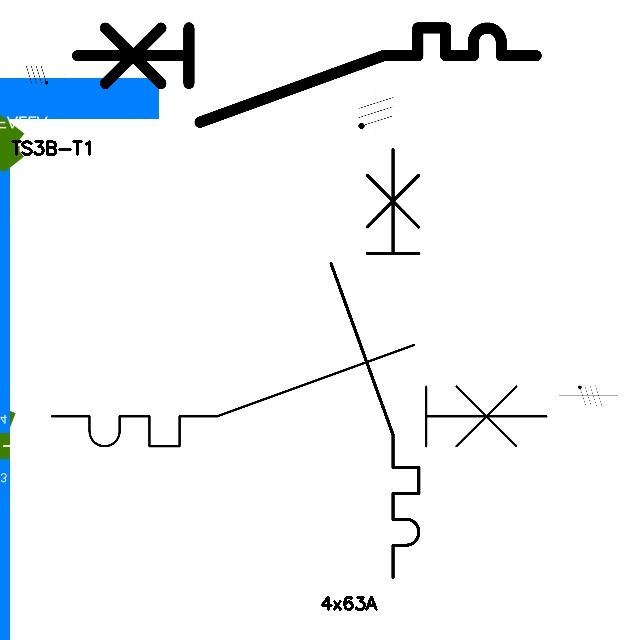interruptor_termomagnetico: (39, 332, 559, 459), (65, 16, 548, 134), (320, 138, 430, 589)
